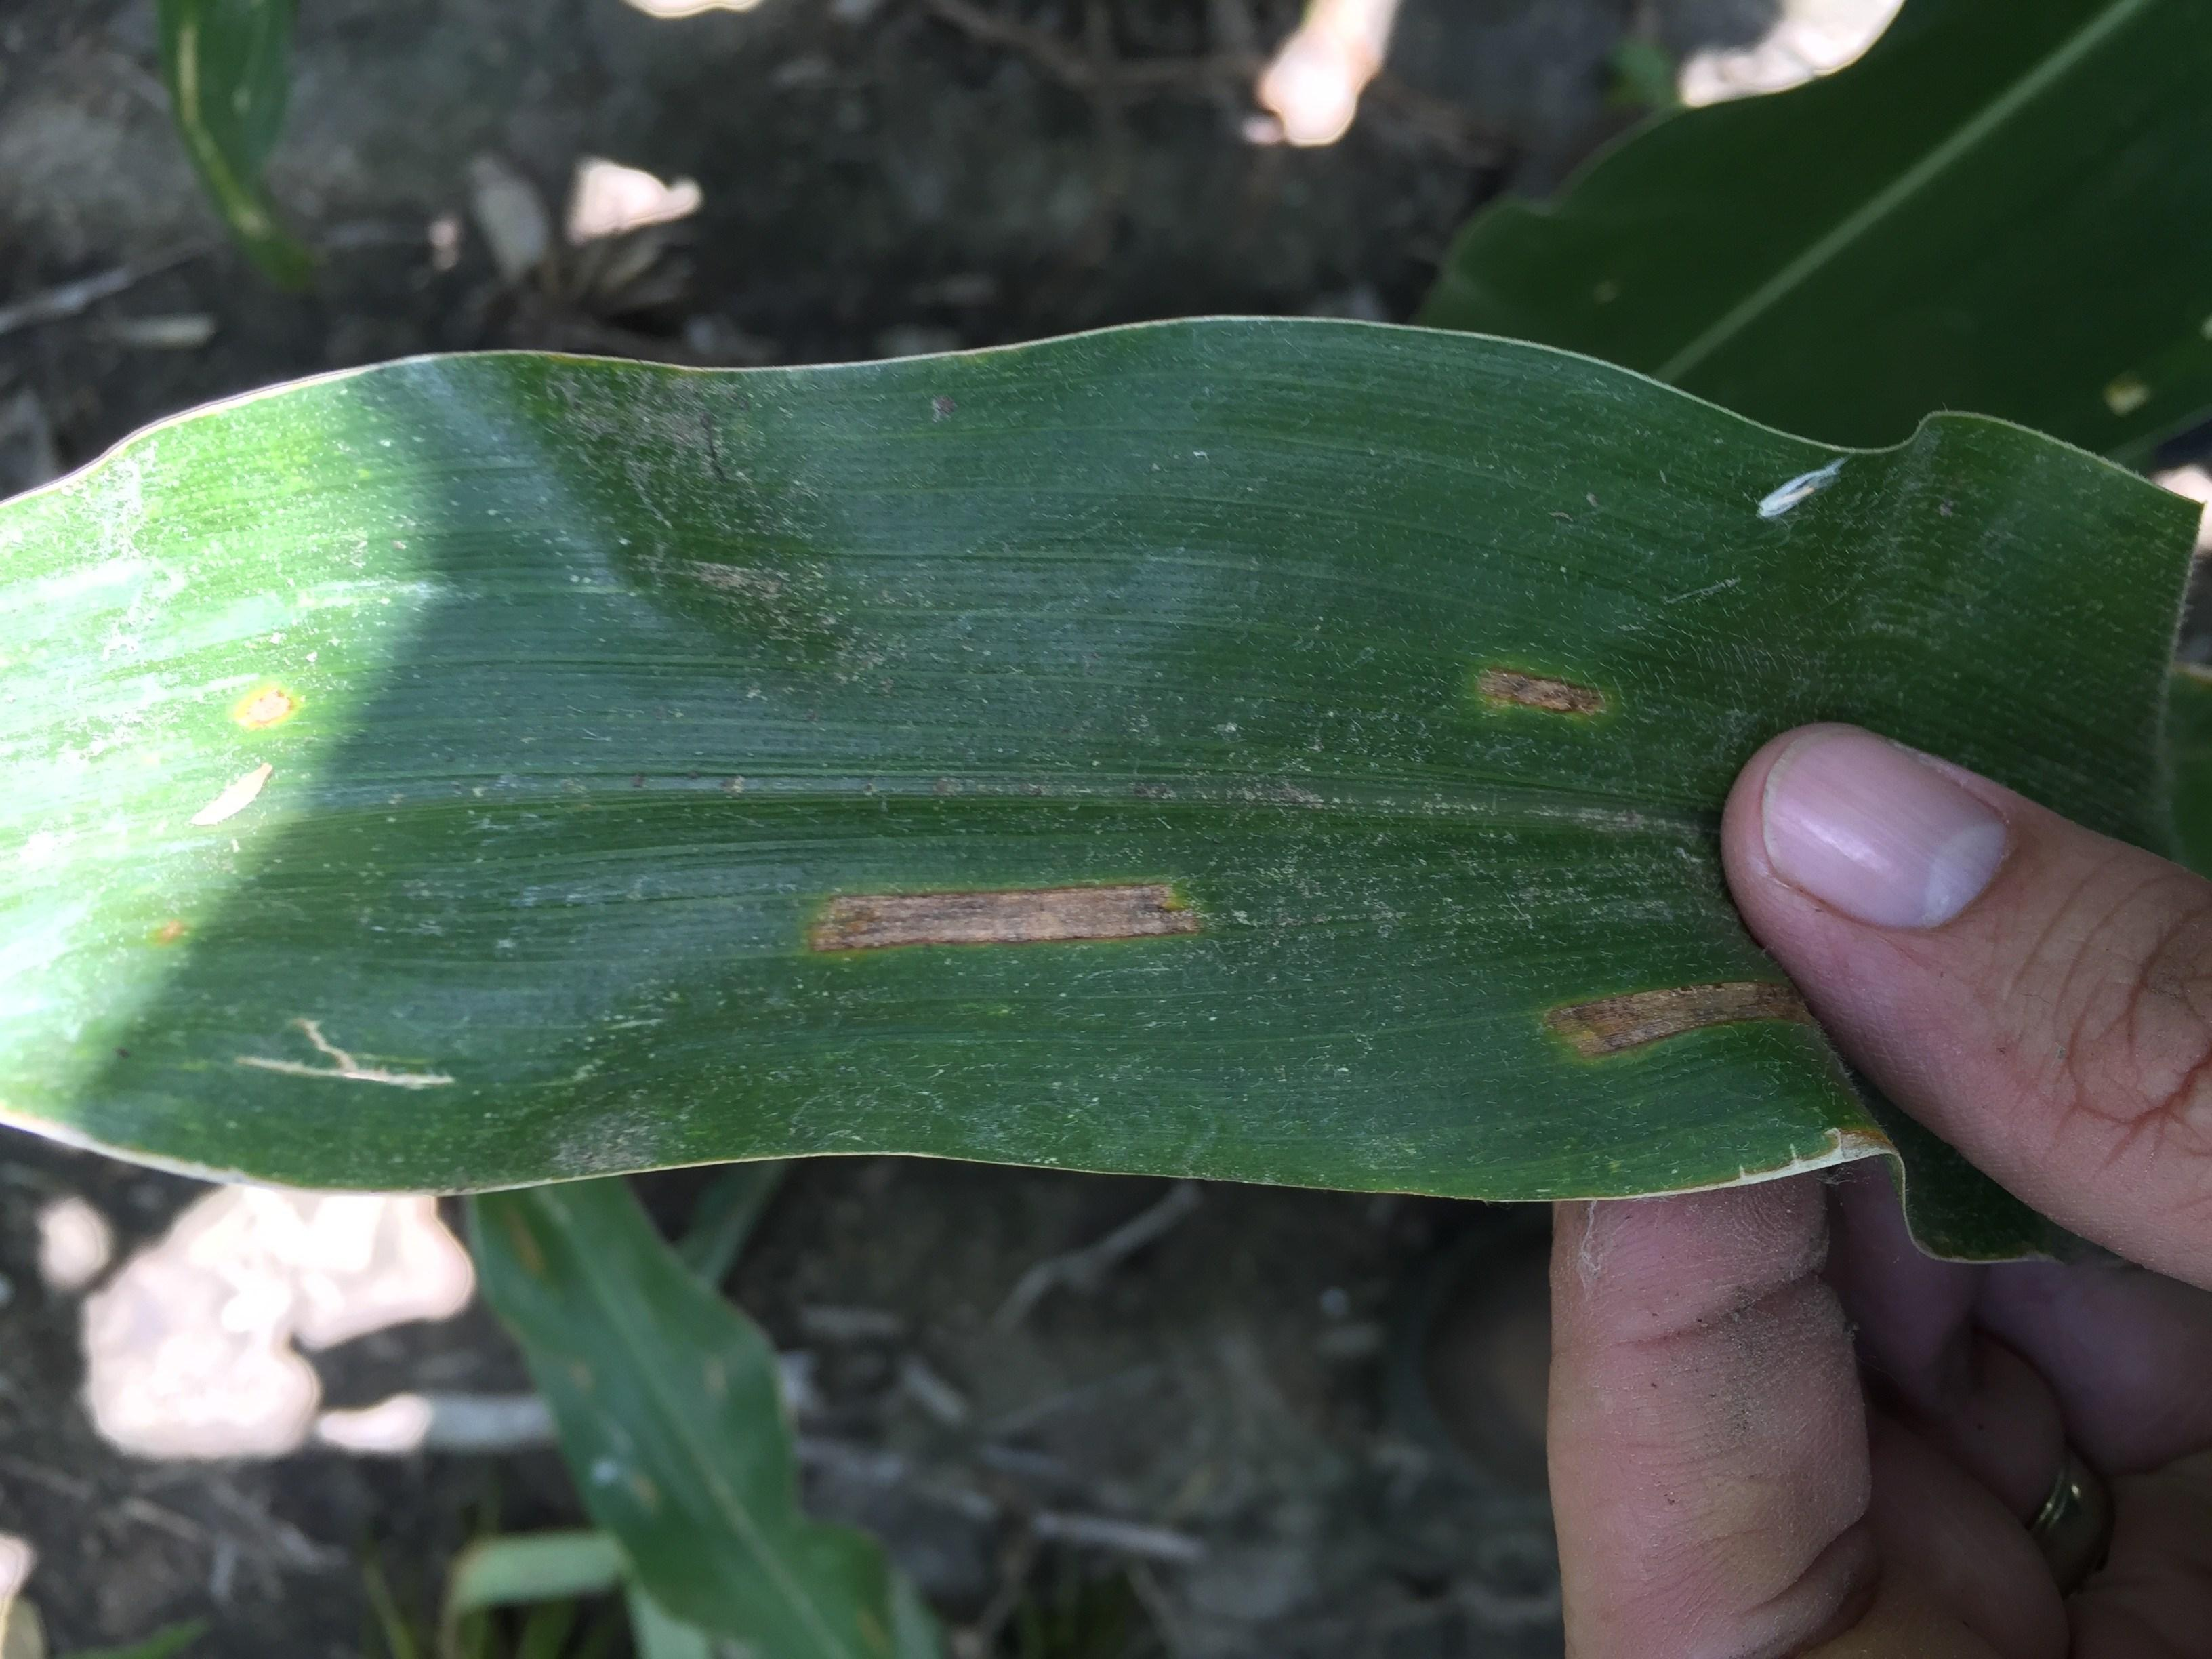Corn Gray leaf spot: (9, 368, 1723, 1206)
